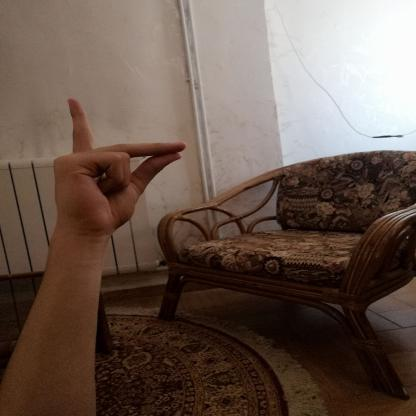TAA: (40, 87, 197, 244)
